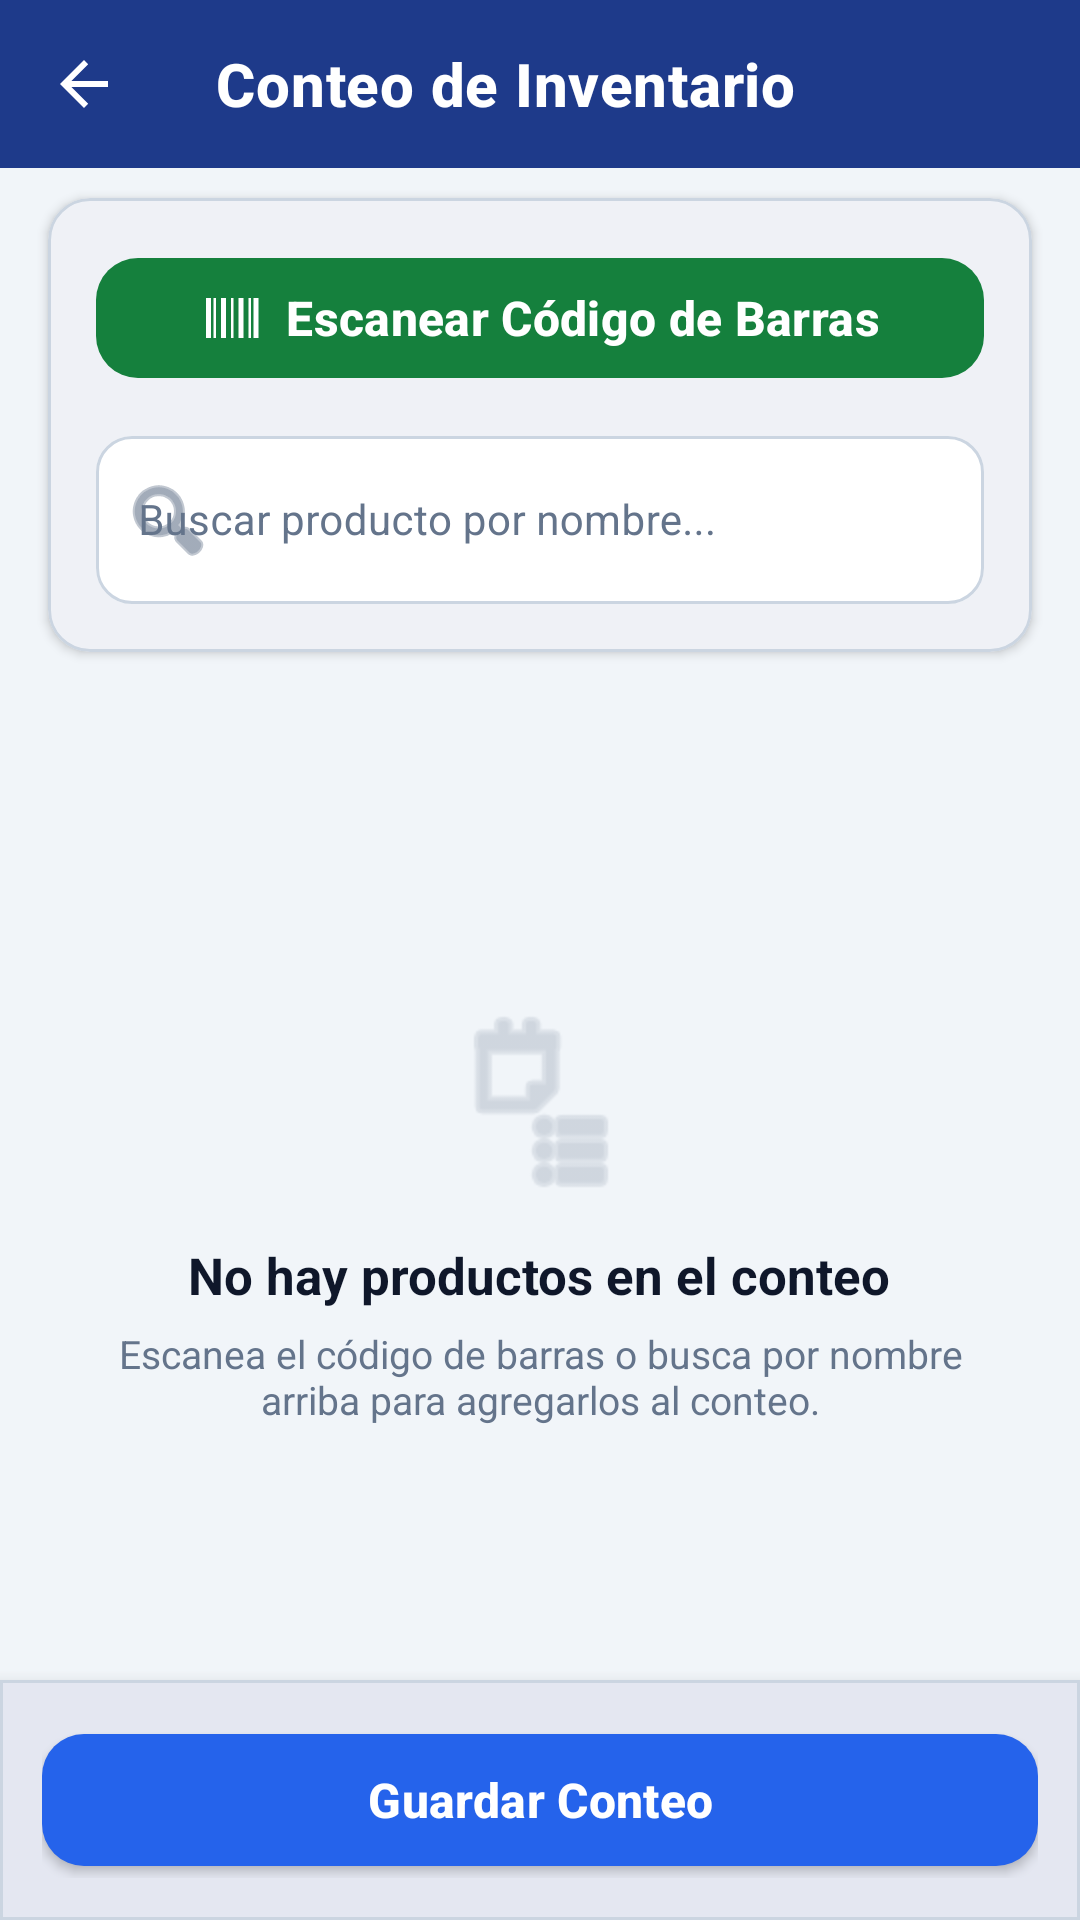

Named icons in this screenshot (1080px×1920px) and their bounding boxes, {"x1": x1, "y1": y1, "x2": x2, "y2": y2}:
Sin productos: {"x1": 477, "y1": 1020, "x2": 605, "y2": 1184}
